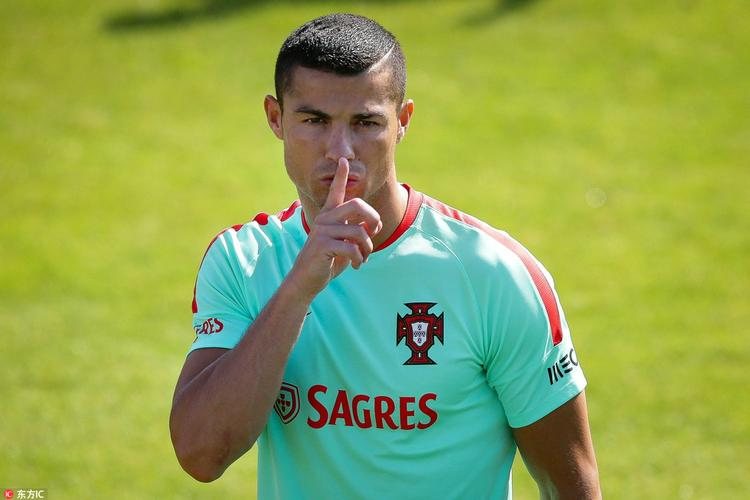no-phone: (292, 157, 384, 294)
